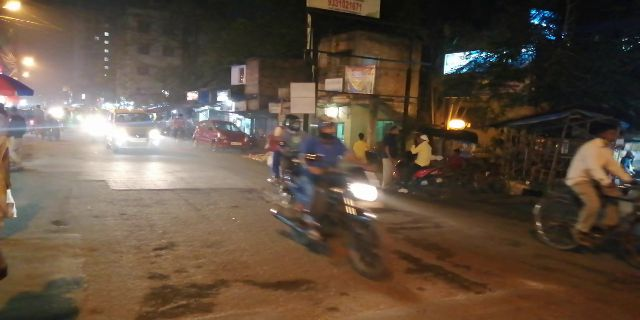Car: (109, 104, 164, 153)
Motorbike: (277, 112, 400, 284)
